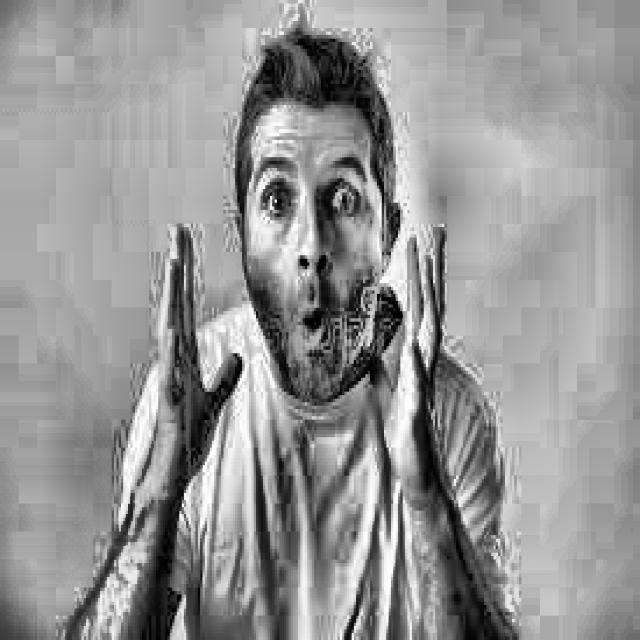surprise: (214, 16, 414, 424)
